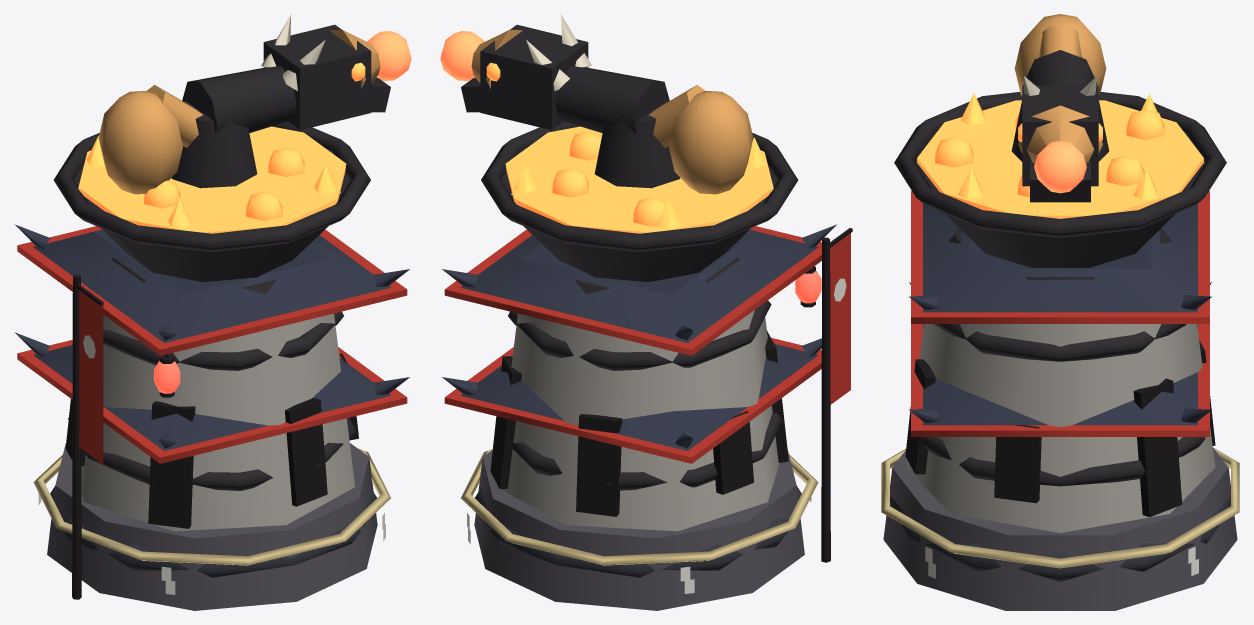
The model's file is tower_flame_inferno.glb.
3 views of the same model, side by side, from view 1: azimuth 30°, elevation 25°; view 2: azimuth 150°, elevation 25°; view 3: azimuth 270°, elevation 25° (orthographic). The views are drawn at different scales.
Visible parts, largest first — view 1: body, base, deco_eave_0_roof, coals, brazier_lip, dragon_head, gas_tank, deco_eave_0_rim, deco_eave_1_roof, brazier_bowl, deco_eave_1_rim, neck (+19 smaller); view 2: body, base, deco_eave_0_roof, coals, brazier_lip, dragon_head, gas_tank, deco_eave_1_roof, deco_eave_0_rim, deco_eave_1_rim, brazier_bowl, neck (+21 smaller); view 3: body, base, deco_eave_0_roof, coals, brazier_lip, deco_eave_0_rim, deco_eave_1_roof, brazier_bowl, deco_eave_1_rim, deco_shimenawa_rope, body_band_0.3, soot_5 (+17 smaller).
Boxes of the visible parts, x1=… form: body: x1=70, y1=313, x2=354, y2=531; base: x1=47, y1=443, x2=377, y2=610; deco_eave_0_roof: x1=33, y1=229, x2=390, y2=342; coals: x1=78, y1=126, x2=346, y2=233; brazier_lip: x1=53, y1=121, x2=370, y2=251; dragon_head: x1=263, y1=24, x2=371, y2=130; gas_tank: x1=98, y1=91, x2=182, y2=194; deco_eave_0_rim: x1=17, y1=226, x2=407, y2=355; deco_eave_1_roof: x1=33, y1=345, x2=390, y2=450; brazier_bowl: x1=74, y1=148, x2=350, y2=282; deco_eave_1_rim: x1=17, y1=340, x2=407, y2=463; neck: x1=182, y1=66, x2=296, y2=133; body: x1=497, y1=310, x2=779, y2=531; base: x1=474, y1=450, x2=804, y2=610; deco_eave_0_roof: x1=461, y1=229, x2=818, y2=342; coals: x1=505, y1=126, x2=773, y2=233; brazier_lip: x1=481, y1=121, x2=798, y2=251; dragon_head: x1=480, y1=24, x2=588, y2=130; gas_tank: x1=669, y1=91, x2=753, y2=194; deco_eave_1_roof: x1=461, y1=344, x2=818, y2=450; deco_eave_0_rim: x1=444, y1=226, x2=821, y2=355; deco_eave_1_rim: x1=444, y1=338, x2=821, y2=463; brazier_bowl: x1=501, y1=148, x2=777, y2=282; neck: x1=555, y1=66, x2=669, y2=133; body: x1=905, y1=324, x2=1215, y2=532; base: x1=883, y1=447, x2=1237, y2=610; deco_eave_0_roof: x1=923, y1=203, x2=1197, y2=312; coals: x1=917, y1=100, x2=1203, y2=218; brazier_lip: x1=894, y1=92, x2=1226, y2=238; deco_eave_0_rim: x1=911, y1=191, x2=1209, y2=323; deco_eave_1_roof: x1=923, y1=324, x2=1197, y2=425; brazier_bowl: x1=915, y1=131, x2=1205, y2=267; deco_eave_1_rim: x1=911, y1=324, x2=1209, y2=436; deco_shimenawa_rope: x1=881, y1=448, x2=1239, y2=568; body_band_0.3: x1=934, y1=324, x2=1186, y2=361; soot_5: x1=1133, y1=378, x2=1182, y2=517.
Size of the model in its own units: 0.4948 by 0.6397 by 0.4052.
